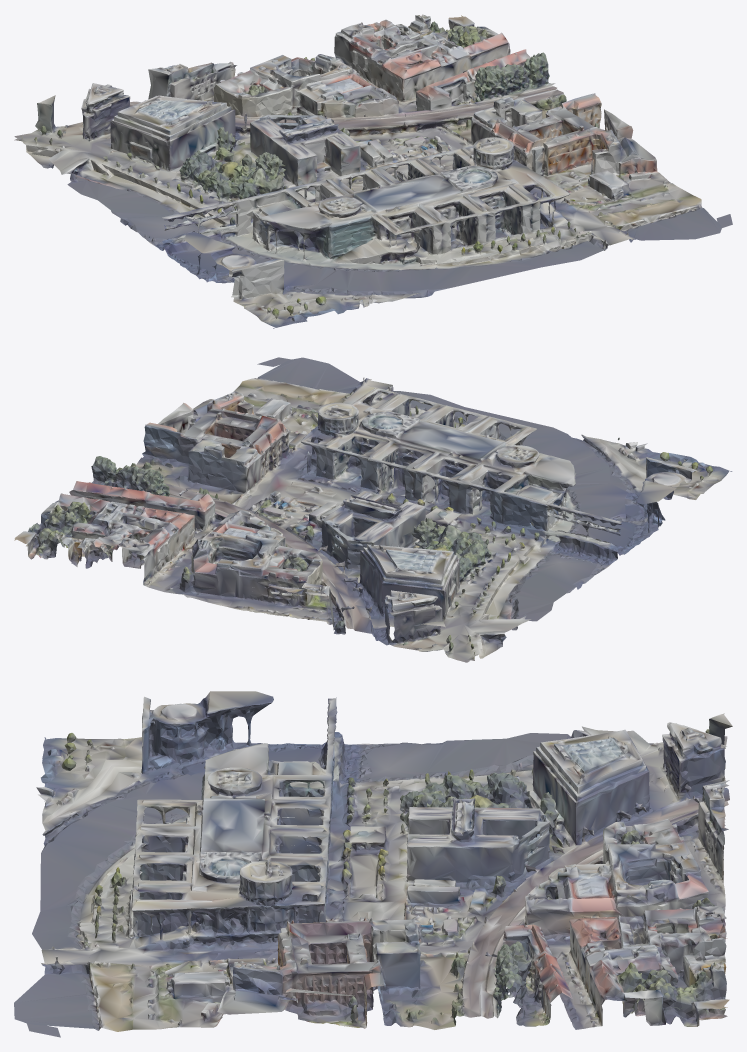
The model's file is tile-3898_58200.glb.
3 views of the same model, one above another, from view 1: azimuth 30°, elevation 25°; view 2: azimuth 150°, elevation 25°; view 3: azimuth 270°, elevation 25° (orthographic). The views are drawn at different scales.
Parts seen in each view (by area): view 1: world; view 2: world; view 3: world.
Part boxes in pixels (box(x1,y1,x2,y2)): world: box(14, 14, 732, 328); world: box(14, 357, 732, 662); world: box(14, 691, 732, 1037).
Size of the model in its own units: 379 by 46.21 by 382.
